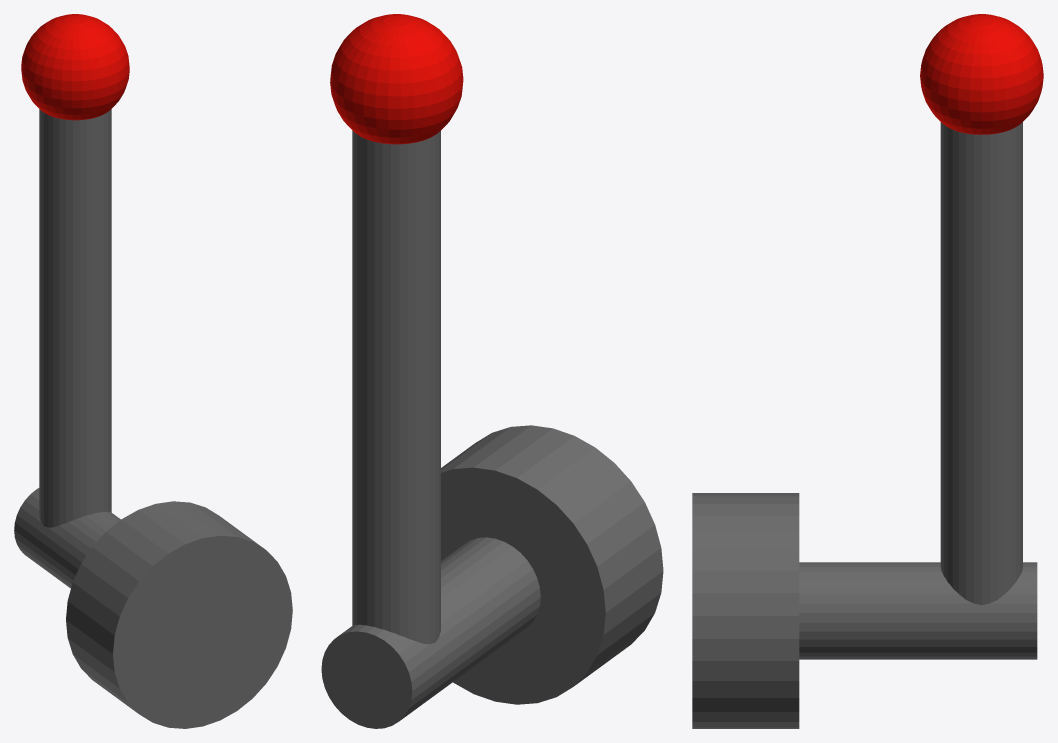
File: spak1.fbx
3 views of the same model, side by side, from view 1: azimuth 30°, elevation 25°; view 2: azimuth 150°, elevation 25°; view 3: azimuth 270°, elevation 25° (orthographic). The views are drawn at different scales.
Visible parts, largest first — view 1: Cylinder, Cylinder.001, Sphere; view 2: Cylinder, Cylinder.001, Sphere; view 3: Cylinder, Cylinder.001, Sphere.
Part boxes in pixels (x1,y1,x2,y2): Cylinder: [14, 488, 292, 728]; Cylinder.001: [39, 109, 111, 527]; Sphere: [21, 14, 129, 120]; Cylinder: [321, 425, 663, 728]; Cylinder.001: [352, 130, 440, 644]; Sphere: [330, 14, 463, 144]; Cylinder: [692, 493, 1037, 728]; Cylinder.001: [940, 122, 1022, 604]; Sphere: [920, 14, 1043, 134].
Bounding box in the file's own units: 200 × 652 × 298.
